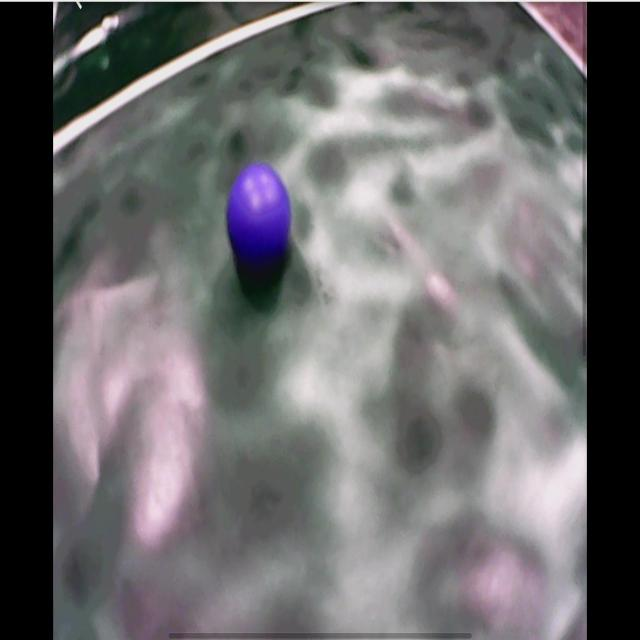ball: (229, 165, 291, 264)
